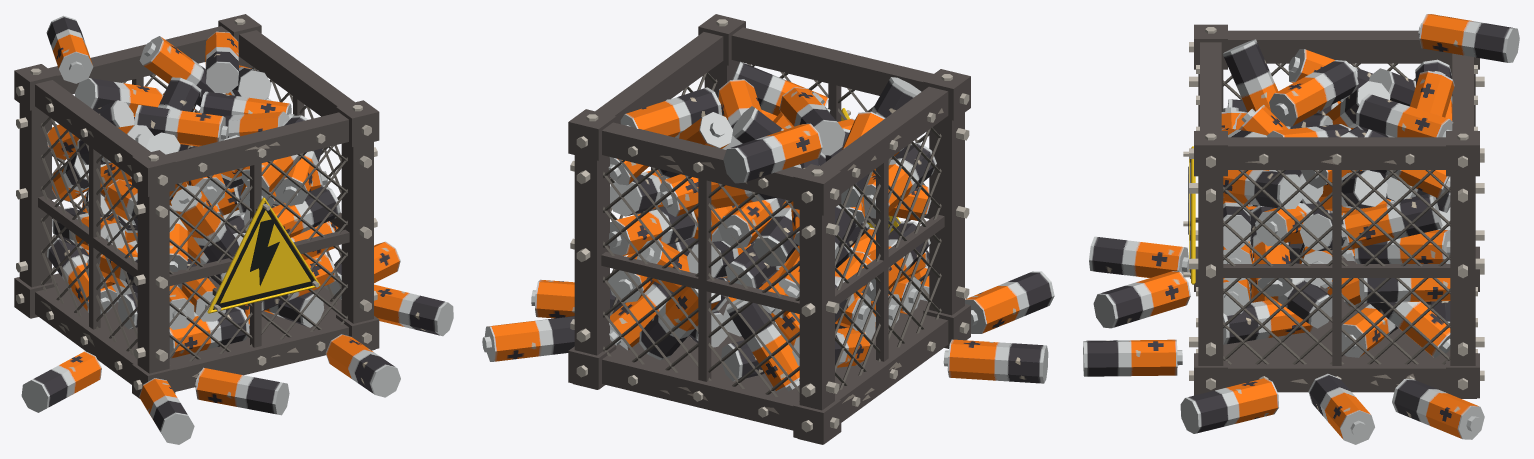
File: battery1_Optimized_v2.fbx
3 views of the same model, side by side, from view 1: azimuth 30°, elevation 25°; view 2: azimuth 150°, elevation 25°; view 3: azimuth 270°, elevation 25° (orthographic). The views are drawn at different scales.
Visible parts, largest first — view 1: Static_Body, Battery_Pile; view 2: Static_Body, Battery_Pile; view 3: Battery_Pile, Static_Body.
Boxes of the visible parts, x1,y1,x2,y2 form: Static_Body: (14, 14, 379, 398); Battery_Pile: (21, 15, 453, 444); Static_Body: (568, 14, 970, 444); Battery_Pile: (482, 61, 1054, 392); Battery_Pile: (1083, 14, 1519, 444); Static_Body: (1183, 24, 1484, 398).
Size of the model in its own units: 594 by 362 by 502.
Materials: 1 (1 with a texture image).
